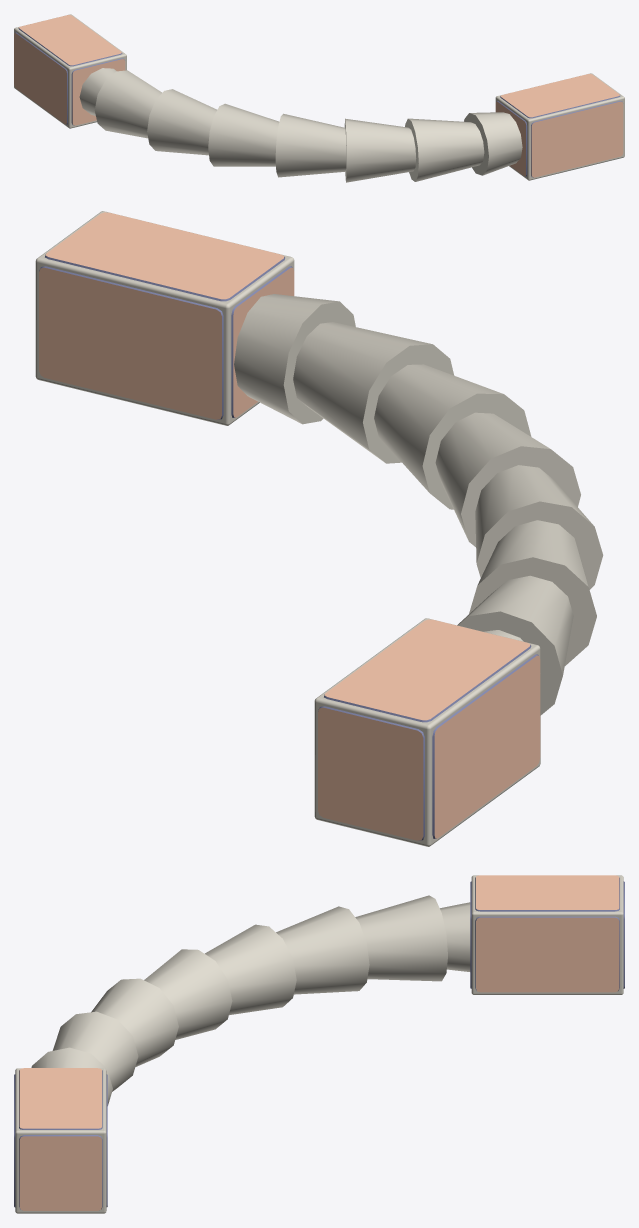
Rendered from R4C_ROD_ARC_LONG.fbx.
3 renders of one model, top to bottom at view 1: azimuth 30°, elevation 25°; view 2: azimuth 150°, elevation 25°; view 3: azimuth 270°, elevation 25°, orthographic. The views are drawn at different scales.
Visible parts, largest first — view 1: R4C_ROD_ARC_LONG; view 2: R4C_ROD_ARC_LONG; view 3: R4C_ROD_ARC_LONG.
Boxes of the visible parts, bbox=[...] form: R4C_ROD_ARC_LONG: bbox=[14, 14, 624, 182]; R4C_ROD_ARC_LONG: bbox=[35, 211, 603, 846]; R4C_ROD_ARC_LONG: bbox=[14, 875, 624, 1213].
Size of the model in its own units: 1.47 by 0.226 by 1.47.
